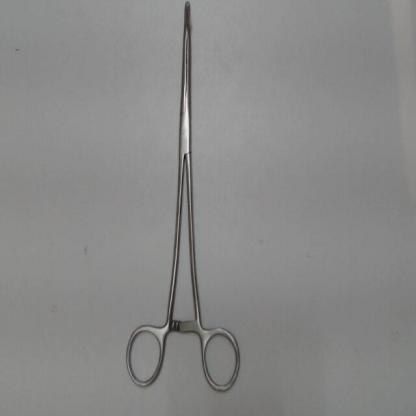Lahey Forceps: (117, 1, 248, 402)
